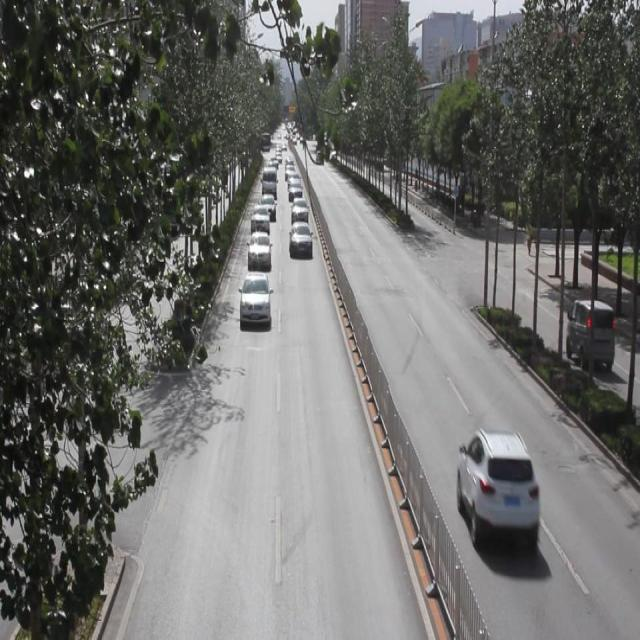car: (456, 427, 539, 554), (239, 268, 271, 326), (247, 229, 271, 269), (290, 220, 312, 255), (289, 195, 310, 222), (251, 203, 269, 230), (259, 192, 276, 218)
truck: (564, 295, 612, 368)
